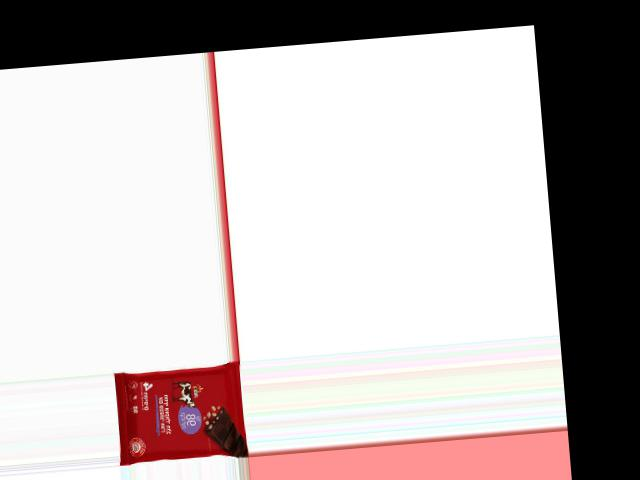chocolate: (111, 361, 246, 463)
